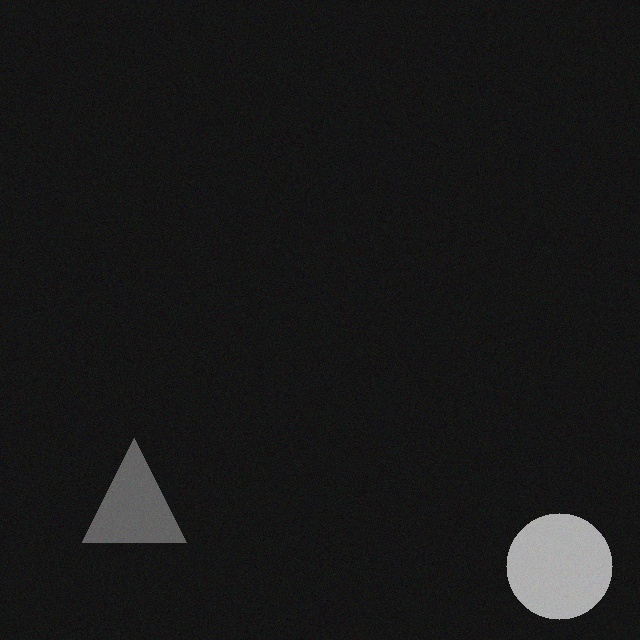circle: (508, 509, 614, 615)
triangle: (84, 434, 188, 538)
